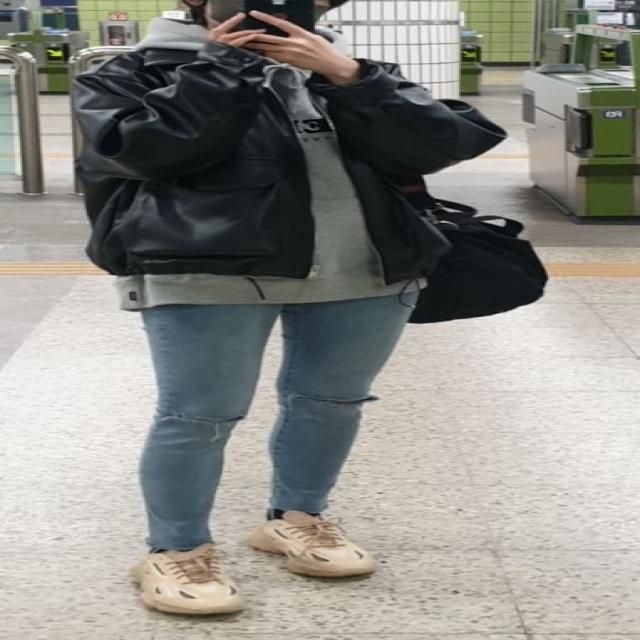denimpants: (138, 276, 415, 550)
jacket: (74, 8, 502, 288)
